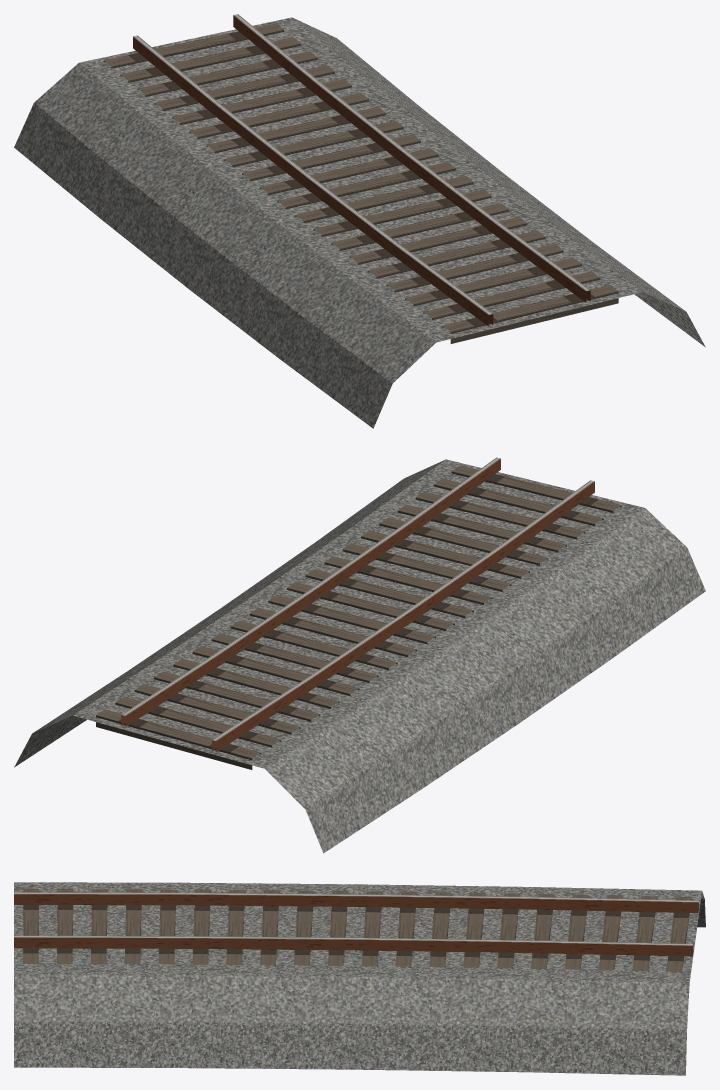
The model's file is rail_track_curve_r175_10m_r_v2_quest.glb.
3 renders of one model, top to bottom at view 1: azimuth 30°, elevation 25°; view 2: azimuth 150°, elevation 25°; view 3: azimuth 270°, elevation 25°, orthographic. The views are drawn at different scales.
Parts seen in each view (by area): view 1: rail_track_curve_r175_10m_r_v2_quest; view 2: rail_track_curve_r175_10m_r_v2_quest; view 3: rail_track_curve_r175_10m_r_v2_quest.
Part boxes in pixels (x1,y1,x2,y2): rail_track_curve_r175_10m_r_v2_quest: (14, 14, 705, 428); rail_track_curve_r175_10m_r_v2_quest: (14, 457, 705, 853); rail_track_curve_r175_10m_r_v2_quest: (14, 882, 705, 1075).
Size of what is drawn, in the model's own units: 5.43 by 1.27 by 10.14.
2 materials, 2 textured.
